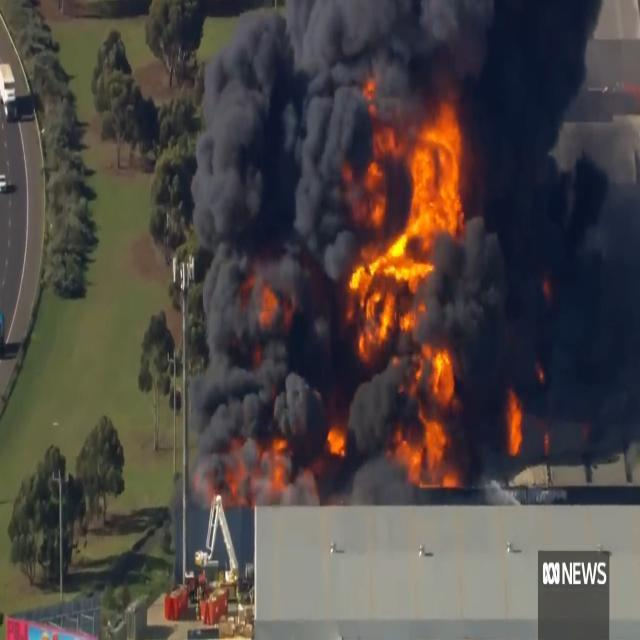fire: (340, 111, 462, 494), (262, 432, 296, 490), (508, 384, 530, 462), (208, 466, 250, 505), (322, 415, 352, 463), (260, 290, 291, 336), (358, 67, 386, 116), (507, 396, 523, 454)
